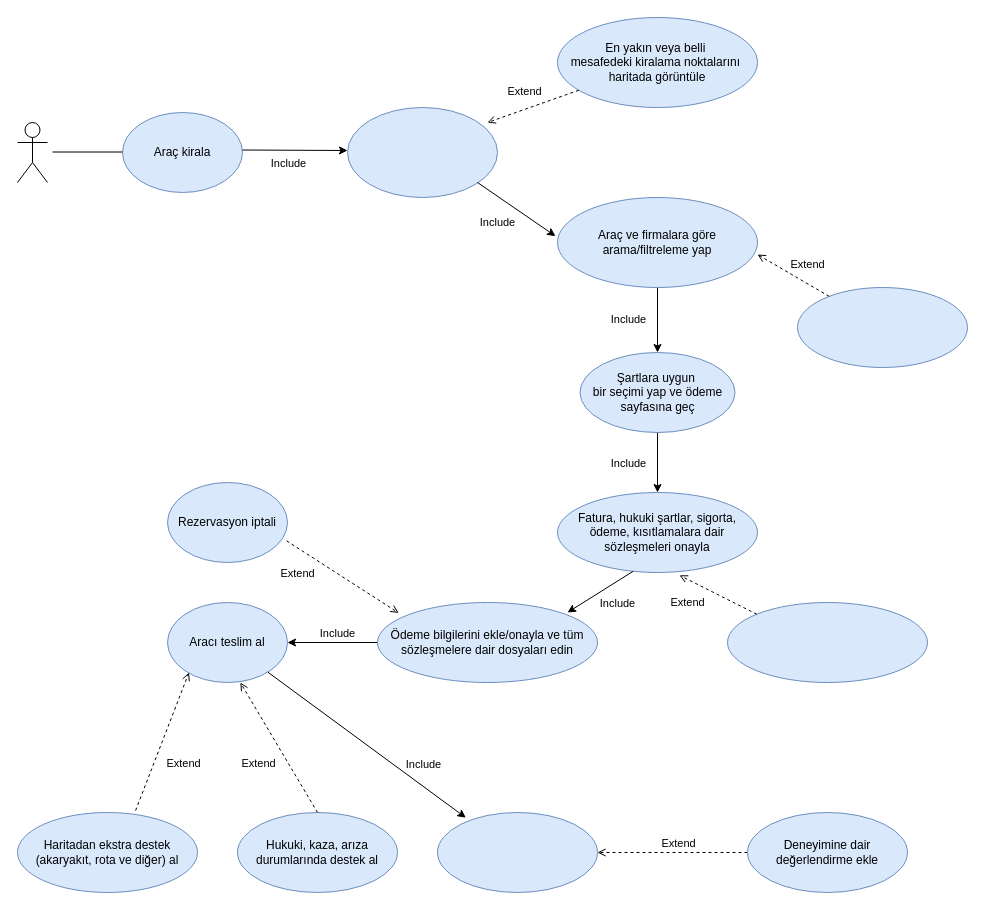
Some shapes in this 985 by 910 pixel diagram are drawn without their labels. The centre of each missing label's shape, as x and y in pixels:
"Aracı teslim et" belongs at point 517,852.
"Firmalara ve araçlara dair değerlendirmeleri incele" belongs at point 882,327.
"Kayıtlı ödeme bilgilerine dair seçimlerini değiştir" belongs at point 827,642.
"Rent menüsüne geçiş yap" belongs at point 422,152.
"User" belongs at point 32,152.
